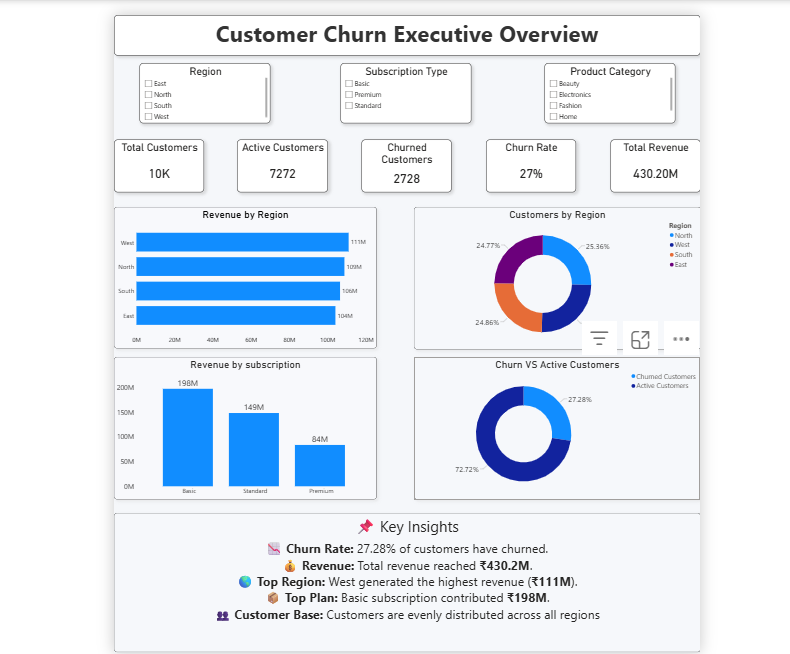

What the dashboard file says about the page in this screenshot:
{"tool":"powerbi","page":{"name":"Page 1","canvas":[2630,2650],"ordinal":0},"visuals":[{"type":"card","title":"Total Customers","fields":{"Values":["customers.Total Customers"]},"box":[0,683.2,476.2,212.2],"z":0},{"type":"card","title":"Active Customers","fields":{"Values":["customers.Active Customers"]},"box":[527.9,678,476.2,212.2],"z":1000},{"type":"card","title":"Churned Customers","fields":{"Values":["customers.Churned Customers"]},"box":[1076.5,678,476.2,212.2],"z":2000},{"type":"card","title":"Churned Rate","fields":{"Values":["customers.Churn Rate %"]},"box":[1620,678,476.2,212.2],"z":3000},{"type":"card","title":"Total Revenue","fields":{"Values":["customers.Total Revenue"]},"box":[2153,678,476.2,212.2],"z":4000},{"type":"textbox","box":[0,0,2629.2,170.8],"z":5000},{"type":"clusteredBarChart","title":"Revenue by Region","fields":{"Category":["customers.Region"],"Y":["customers.Total Revenue"]},"box":[0,987.8,1257.2,562.7],"z":6000},{"type":"pieChart","title":"Customersby Region","fields":{"Category":["customers.Region"],"Y":["customers.Total Customers"]},"box":[1406.8,987.8,1221.3,562.7],"z":7000},{"type":"clusteredColumnChart","title":"Revenue by Sub-Scription Type","fields":{"Category":["customers.Subscription_Type"],"Y":["customers.Total Revenue"]},"box":[0,1598.4,1257.2,562.7],"z":8000},{"type":"donutChart","title":"Active Vs Churn Customers","fields":{"Y":["customers.Churned Customers","customers.Active Customers"]},"box":[1406.8,1598.4,1227.3,562.7],"z":9000},{"type":"textbox","box":[0,2161.2,2628.1,490.9],"z":10000},{"type":"slicer","title":"Region","fields":{"Values":["customers.Region"]},"box":[173.6,227.5,526.8,323.3],"z":11000},{"type":"slicer","title":"Product Category","fields":{"Values":["customers.Product_Category"]},"box":[1891.8,227.5,526.8,323.3],"z":12000},{"type":"slicer","title":"Subscription Type","fields":{"Values":["customers.Subscription_Type"]},"box":[1029.7,227.5,526.8,323.3],"z":13000}]}

Visuals, with their boxes on the page's 2630x2650 design canvas (x1, y1, x2, y2). These are canvas units, not pixel positions in the 790x654 screenshot, which may show the page scaled, cropped or inside an application window:
"Total Customers" card: region(0, 683, 476, 895)
"Active Customers" card: region(528, 678, 1004, 890)
"Churned Customers" card: region(1076, 678, 1553, 890)
"Churned Rate" card: region(1620, 678, 2096, 890)
"Total Revenue" card: region(2153, 678, 2629, 890)
textbox: region(0, 0, 2629, 171)
"Revenue by Region" clusteredBarChart: region(0, 988, 1257, 1550)
"Customersby Region" pieChart: region(1407, 988, 2628, 1550)
"Revenue by Sub-Scription Type" clusteredColumnChart: region(0, 1598, 1257, 2161)
"Active Vs Churn Customers" donutChart: region(1407, 1598, 2634, 2161)
textbox: region(0, 2161, 2628, 2652)
"Region" slicer: region(174, 228, 700, 551)
"Product Category" slicer: region(1892, 228, 2419, 551)
"Subscription Type" slicer: region(1030, 228, 1556, 551)
